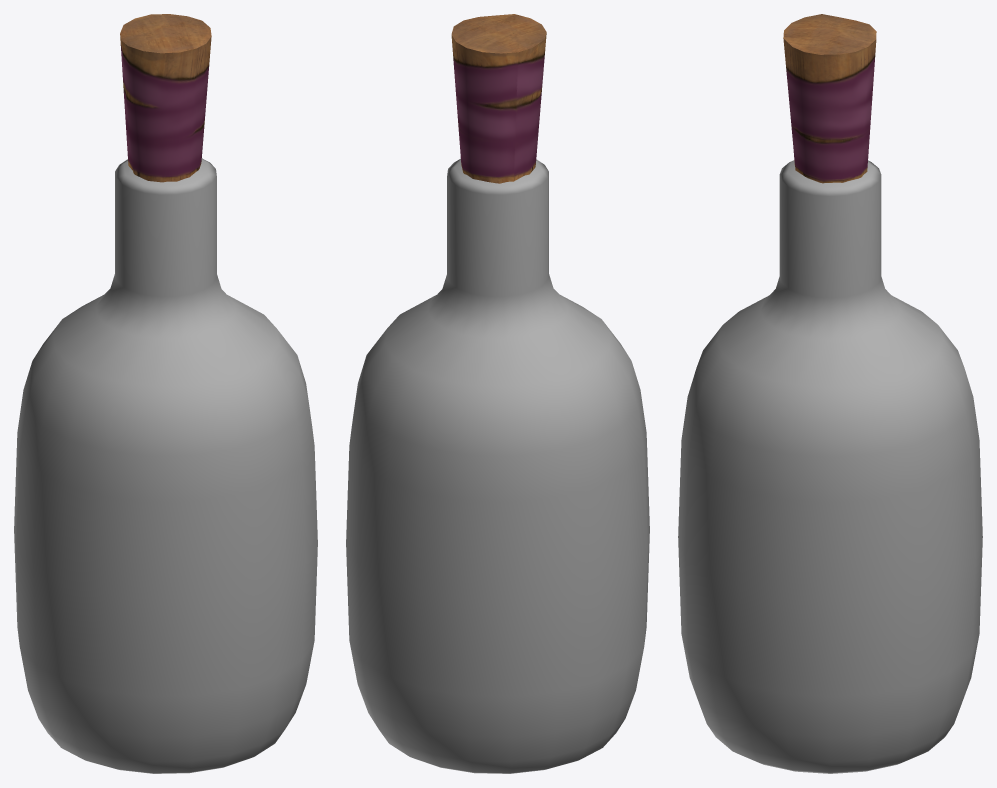
File: SM_Potion_Props_Bottle_Medium_04_B.fbx
The picture shows the model from 3 angles, left to right: view 1: azimuth 30°, elevation 25°; view 2: azimuth 150°, elevation 25°; view 3: azimuth 270°, elevation 25°; orthographic projection.
Parts seen in each view (by area): view 1: SM_Potion_Props_Bottle_Medium_04_B_LOD0; view 2: SM_Potion_Props_Bottle_Medium_04_B_LOD0; view 3: SM_Potion_Props_Bottle_Medium_04_B_LOD0.
Boxes of the visible parts, <box> form: SM_Potion_Props_Bottle_Medium_04_B_LOD0: <box>14,14,317,773</box>; SM_Potion_Props_Bottle_Medium_04_B_LOD0: <box>346,14,649,773</box>; SM_Potion_Props_Bottle_Medium_04_B_LOD0: <box>678,14,982,773</box>.
Size of what is drawn, in the model's own units: 14.31 by 36.02 by 14.31.
